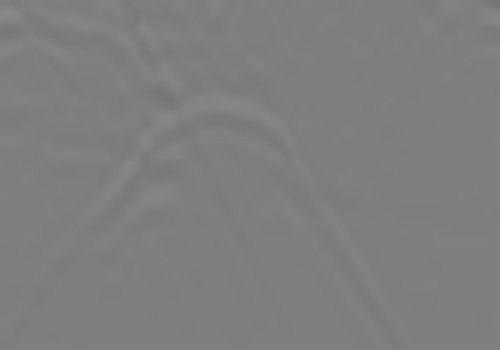hyperbola: (52, 89, 409, 317)
